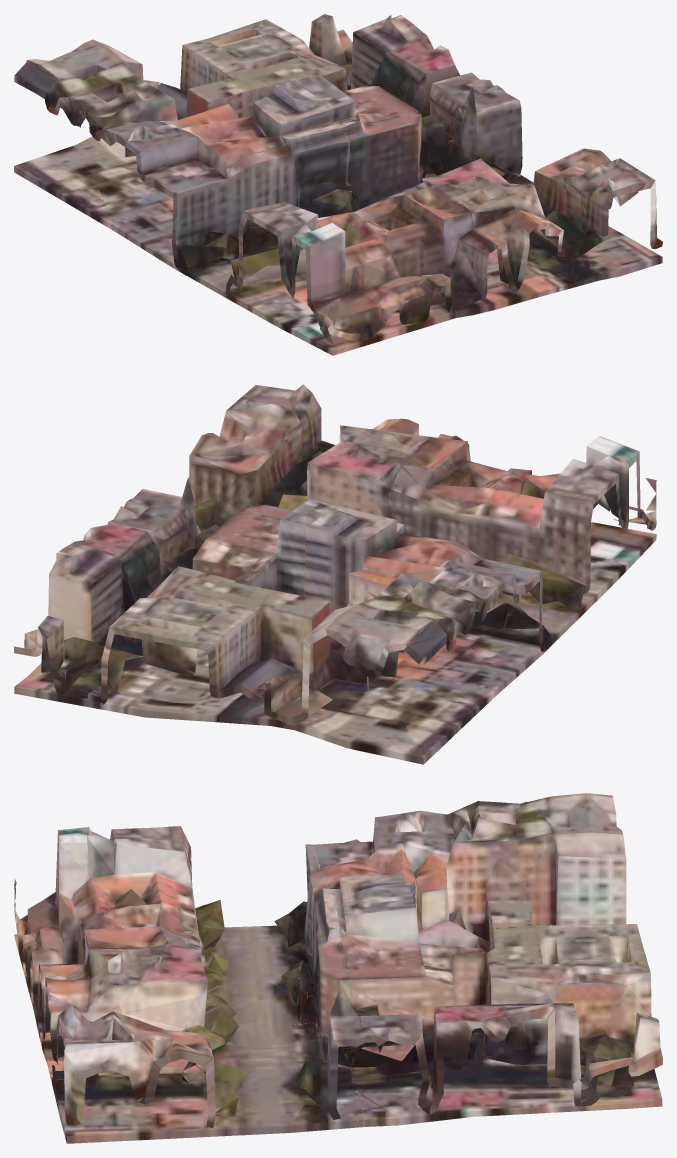
3 views of the same model, one above another, from view 1: azimuth 30°, elevation 25°; view 2: azimuth 150°, elevation 25°; view 3: azimuth 270°, elevation 25° (orthographic). The views are drawn at different scales.
Parts seen in each view (by area): view 1: Mesh_0; view 2: Mesh_0; view 3: Mesh_0.
Part boxes in pixels (x1,y1,x2,y2): Mesh_0: (14, 14, 662, 355); Mesh_0: (14, 384, 656, 764); Mesh_0: (14, 793, 662, 1143).
Bounding box in the file's own units: 133 × 38.66 × 165.
Materials: 1 (1 with a texture image).
